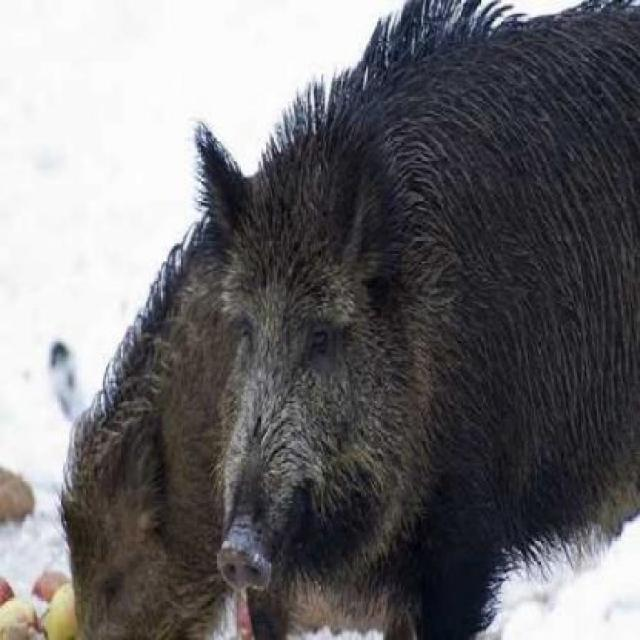pig: (180, 6, 638, 639)
